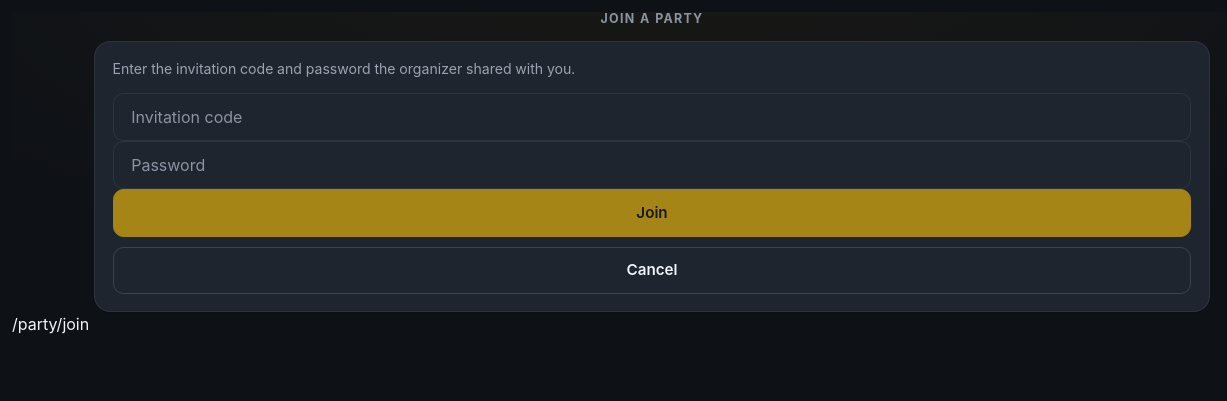
Test: explains a wrong password without technical wording (EC-7)
This screenshot has width=1227, height=401.
Step 1. Type "K7X9-QP2M" into the field with placeholder "Invitation code" → {"x": 652, "y": 118}, box [113, 94, 1191, 142]
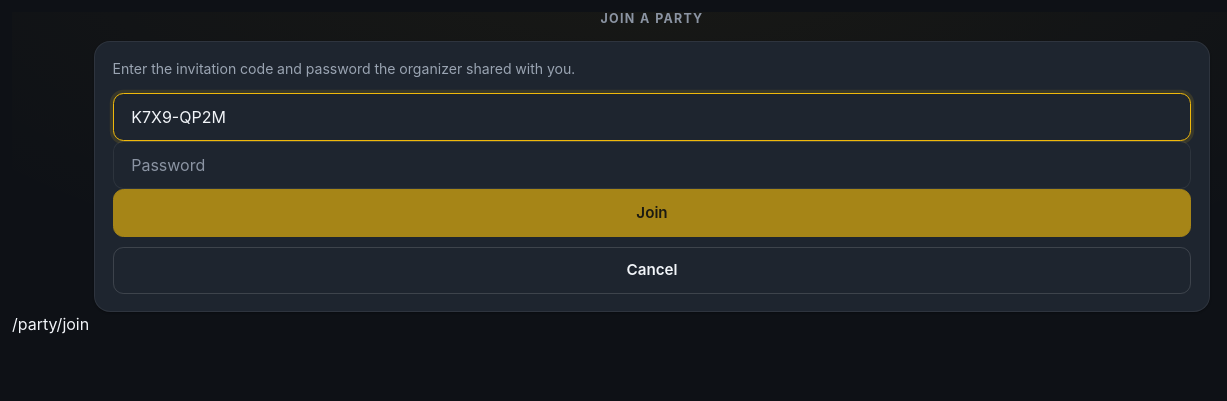
Step 2. Type "wrong" into the password field with placeholder "Password" → {"x": 652, "y": 166}, box [113, 142, 1191, 190]
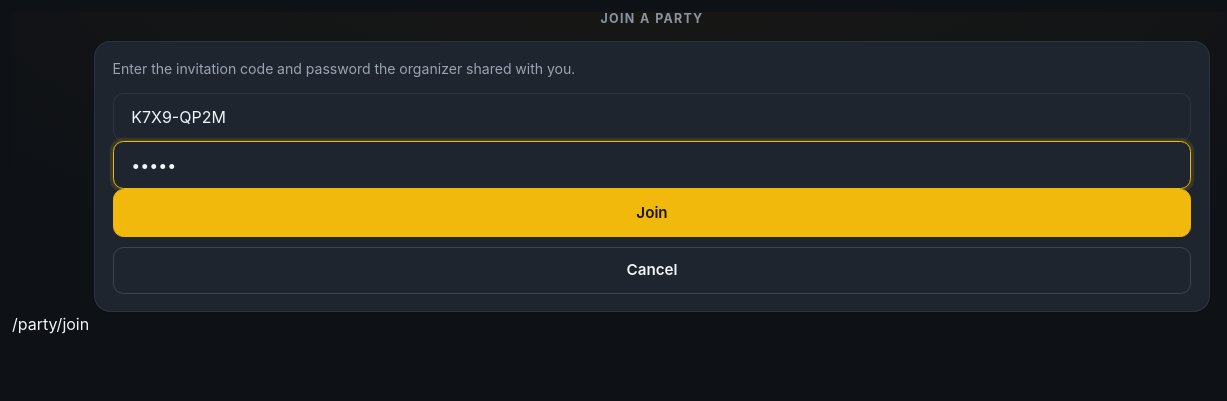
Step 3. Click the button "Join" → {"x": 652, "y": 213}, box [113, 190, 1191, 237]
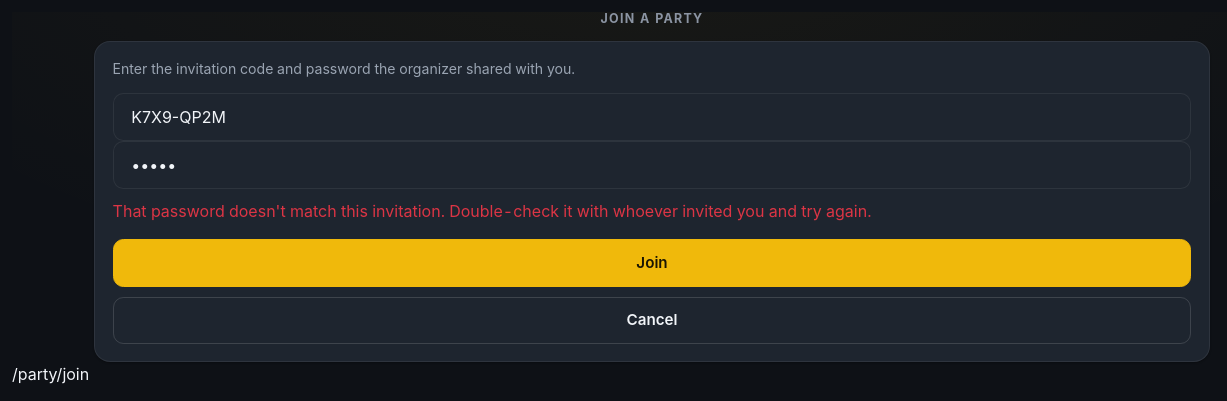
Now the message shows "That password doesn't match this invitation.", box [113, 202, 871, 222]
